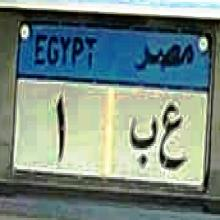1: (53, 92, 68, 164)
ain: (159, 97, 187, 173)
baa: (127, 111, 158, 170)
